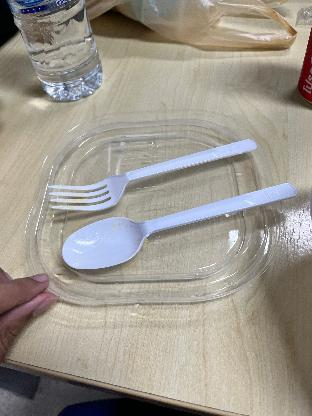Others: (52, 180, 308, 268), (40, 133, 258, 213)
